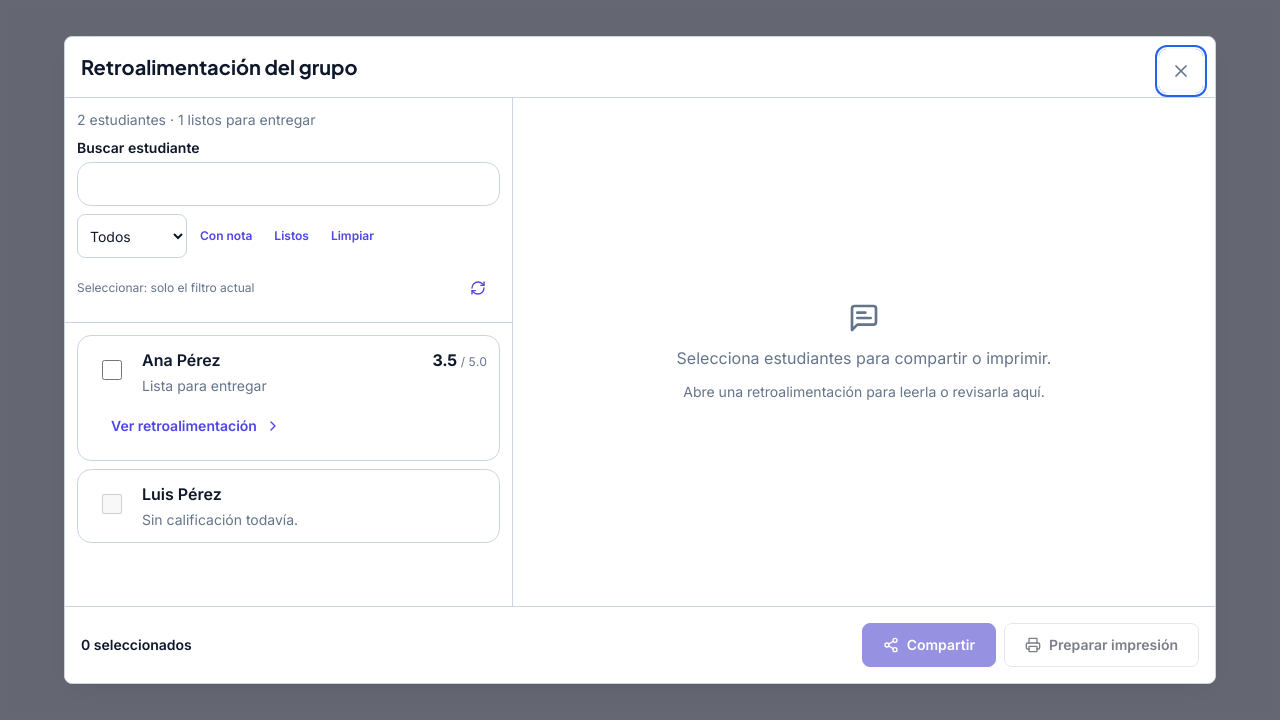
it: retroalimentaciones por evaluación › reúne el grupo, conserva texto y no genera enlaces al consultar
Check: the checkbox named "Seleccionar Ana Pérez" is shown, box [102, 360, 122, 380]
Check: the text "Luis Pérez" is shown, box [142, 484, 222, 504]
Step 1. Click the button with aria-label "Ver retroalimentación de Ana Pérez" → (196,426), box [90, 404, 302, 448]
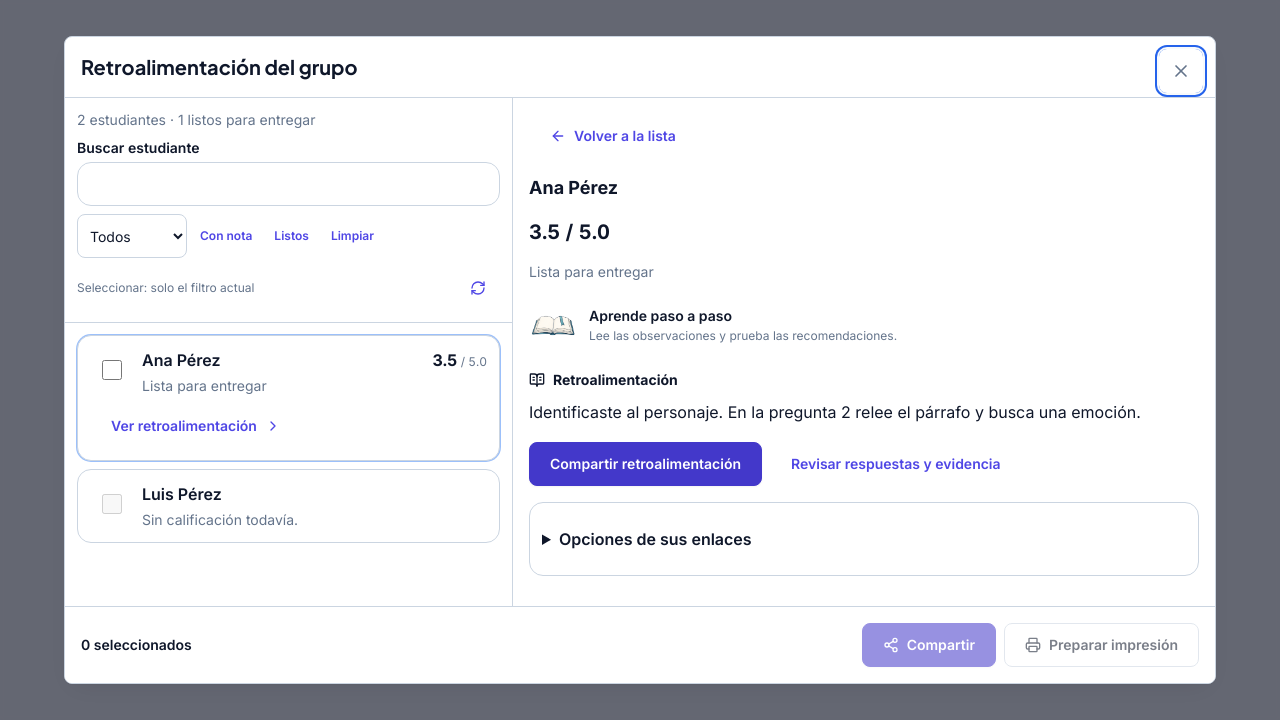
Check: the text "Identificaste al personaje. En la pregunta 2 relee el párrafo y busca una emoción." is shown, box [529, 402, 1141, 422]
